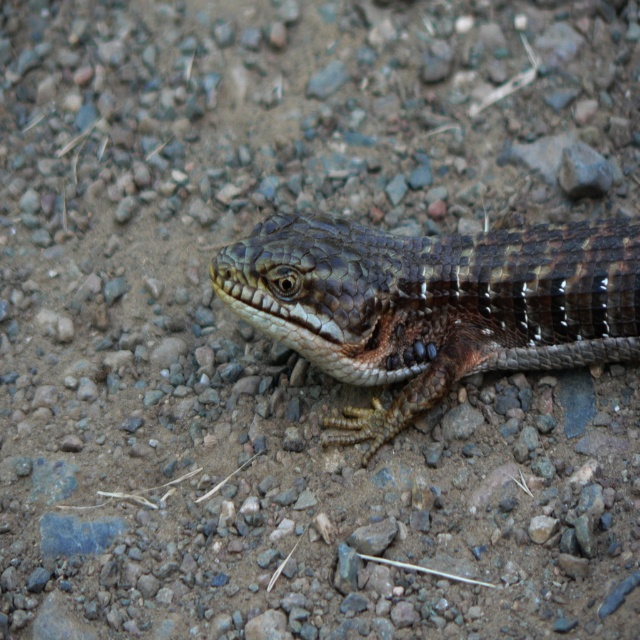Lizard: (214, 207, 640, 504)
